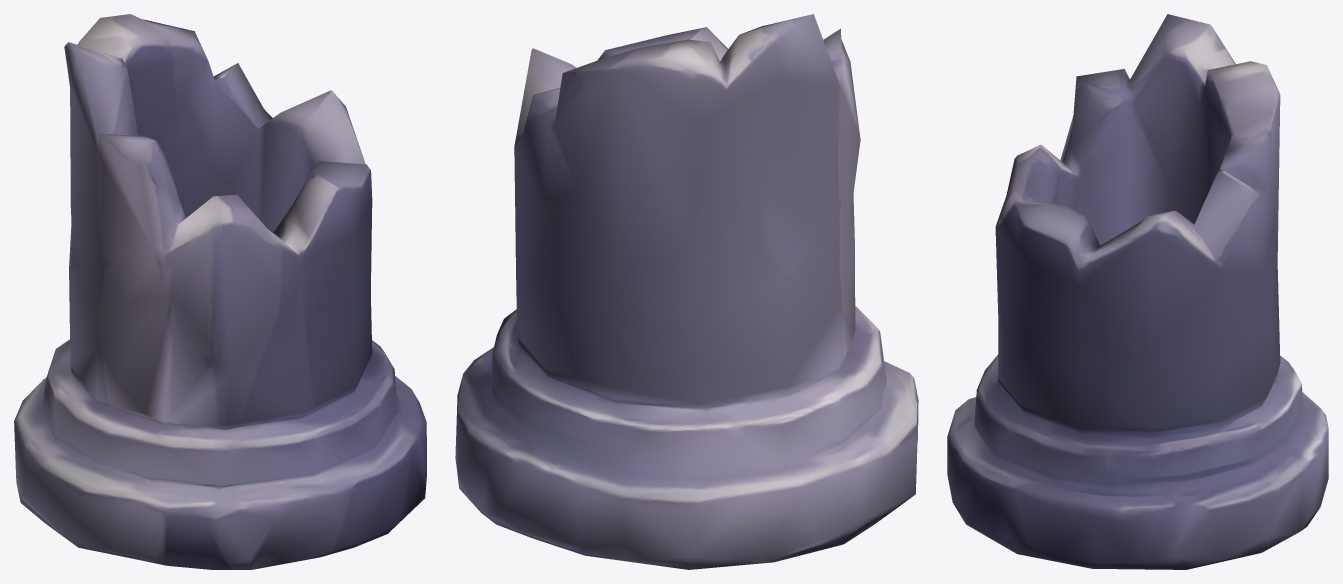
The picture shows the model from 3 angles, left to right: view 1: azimuth 30°, elevation 25°; view 2: azimuth 150°, elevation 25°; view 3: azimuth 270°, elevation 25°; orthographic projection. The views are drawn at different scales.
Visible parts, largest first — view 1: tower-rock-2; view 2: tower-rock-2; view 3: tower-rock-2.
Part boxes in pixels (left/top/right/bottom): tower-rock-2: left=14, top=14, right=426, bottom=569; tower-rock-2: left=455, top=14, right=918, bottom=569; tower-rock-2: left=947, top=14, right=1328, bottom=569.
Size of the model in its own units: 0.2818 by 0.3405 by 0.2779.
Materials: 1 (1 with a texture image).
